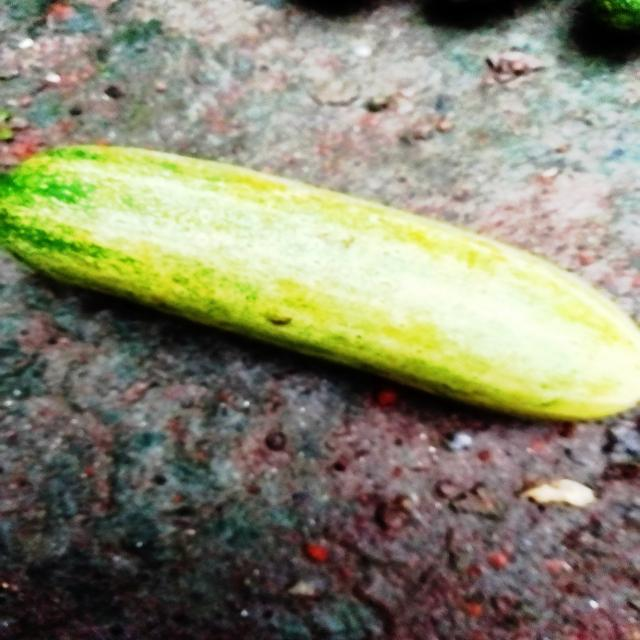Fresh-Cucumber: (1, 140, 640, 420)
